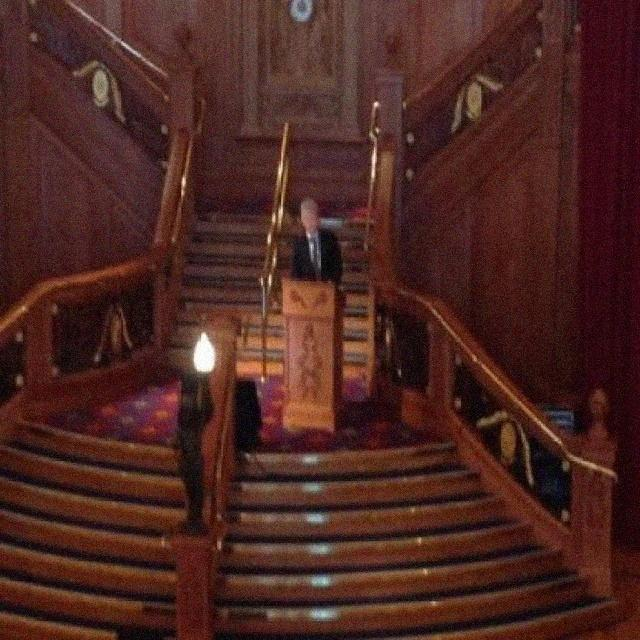stair: (0, 196, 620, 638)
